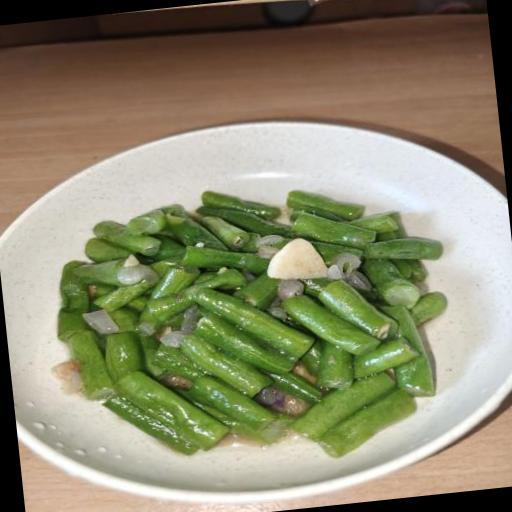buncis_rebus: (19, 151, 512, 496)
